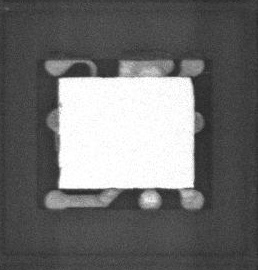DIE_BROKEN: (55, 102, 62, 189), (188, 74, 195, 86)
